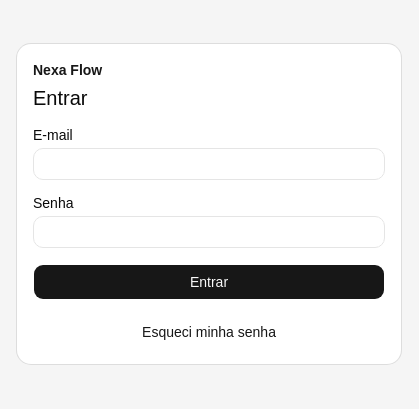
LoginPage › shows an error for wrong credentials
Type "ana@magistter.com.br" into the field labelled "E-mail" at (209, 164), box [33,148,385,180]
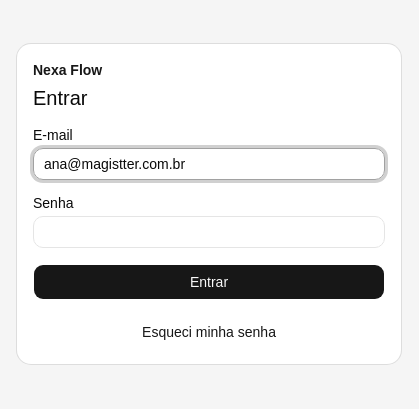
Type "wrong" into the password field labelled "Senha" at (209, 232), box [33,216,385,248]
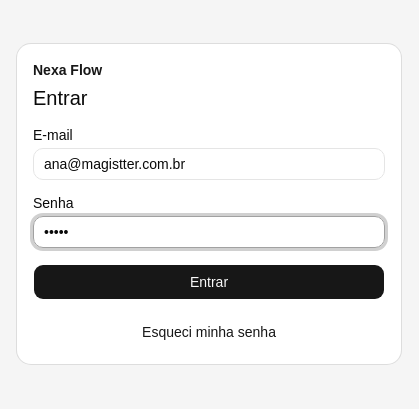
Click the button "Entrar" at (209, 282), box [33,264,385,300]
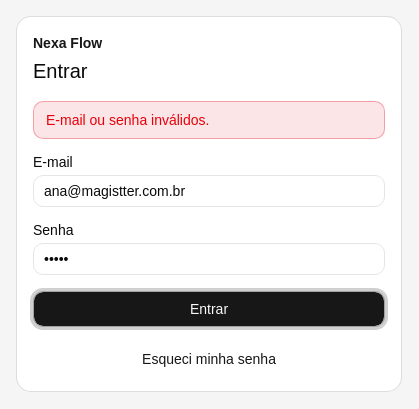
Now the message reads "E-mail ou senha inválidos.", box [46,112,209,128]
